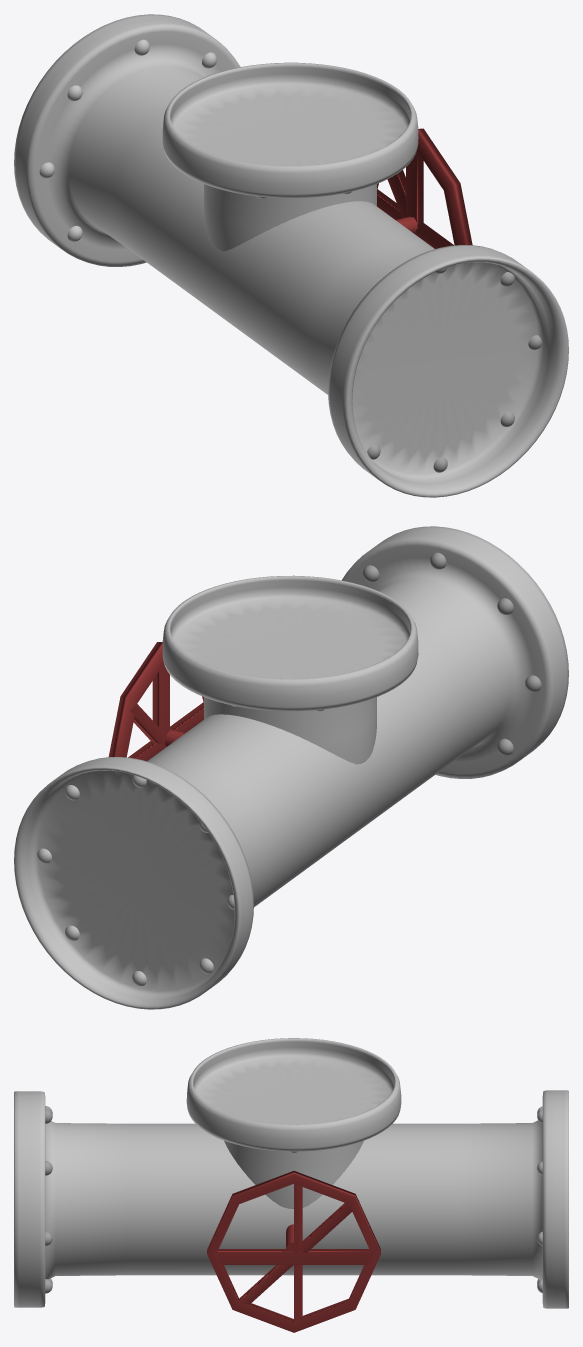
The model's file is Water_Pipe_Cross_Secction.fbx.
The picture shows the model from 3 angles, top to bottom: view 1: azimuth 30°, elevation 25°; view 2: azimuth 150°, elevation 25°; view 3: azimuth 270°, elevation 25°; orthographic projection. The views are drawn at different scales.
Visible parts, largest first — view 1: Cylinder.002, Cylinder.004, Sphere.005, Sphere.007; view 2: Cylinder.002, Cylinder.004, Sphere.005, Sphere.007; view 3: Cylinder.002, Cylinder.004, Sphere.007.
Boxes of the visible parts, x1,y1,x2,y2 form: Cylinder.002: (14, 14, 568, 497); Cylinder.004: (377, 128, 472, 248); Sphere.005: (39, 39, 216, 241); Sphere.007: (367, 267, 541, 472); Cylinder.002: (14, 526, 568, 1009); Cylinder.004: (108, 642, 203, 761); Sphere.005: (37, 775, 234, 986); Sphere.007: (363, 552, 541, 755); Cylinder.002: (14, 1038, 568, 1308); Cylinder.004: (207, 1171, 380, 1332); Sphere.007: (45, 1106, 52, 1293).
Bounding box in the file's own units: 21.9 × 22.02 × 51.02.
